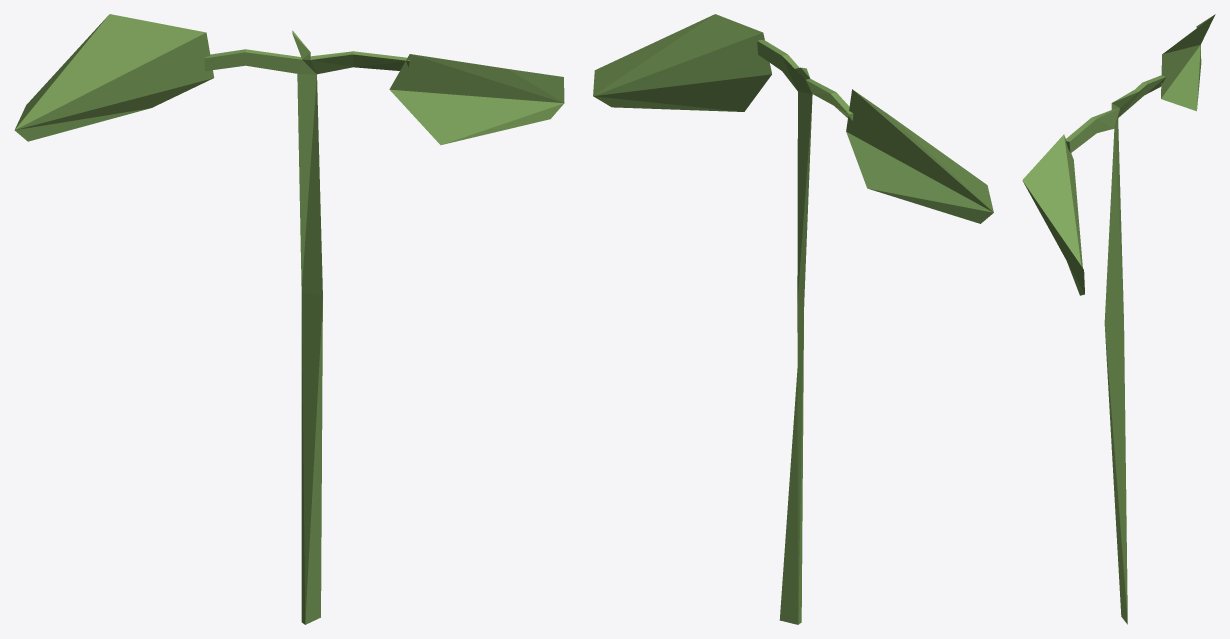
File: Tomatos_2.fbx
The picture shows the model from 3 angles, left to right: view 1: azimuth 30°, elevation 25°; view 2: azimuth 150°, elevation 25°; view 3: azimuth 270°, elevation 25°; orthographic projection. The views are drawn at different scales.
Visible parts, largest first — view 1: Tomato_2; view 2: Tomato_2; view 3: Tomato_2.
Boxes of the visible parts, x1,y1,x2,y2 form: Tomato_2: (14,14,564,624); Tomato_2: (593,14,993,624); Tomato_2: (1022,14,1215,624).
Size of the model in its own units: 27.83 by 33.28 by 10.8.
